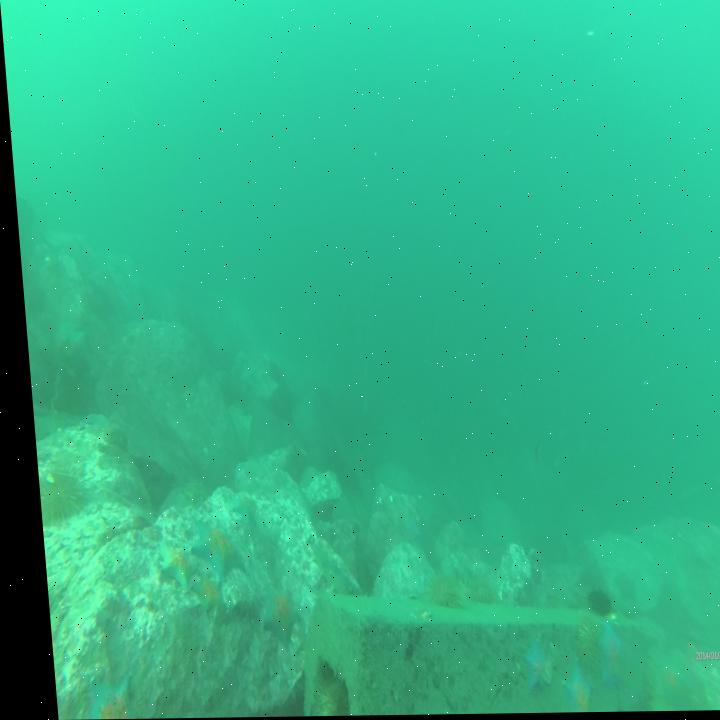echinus: (30, 463, 81, 521), (296, 665, 342, 717), (414, 572, 455, 616), (450, 566, 484, 612), (561, 619, 589, 670), (573, 586, 603, 621)
starfish: (185, 517, 238, 578), (248, 578, 288, 646), (73, 671, 125, 719), (144, 541, 190, 591), (585, 621, 615, 688), (642, 660, 678, 713), (506, 642, 540, 694), (550, 660, 582, 714), (182, 577, 219, 620), (221, 491, 251, 529)
